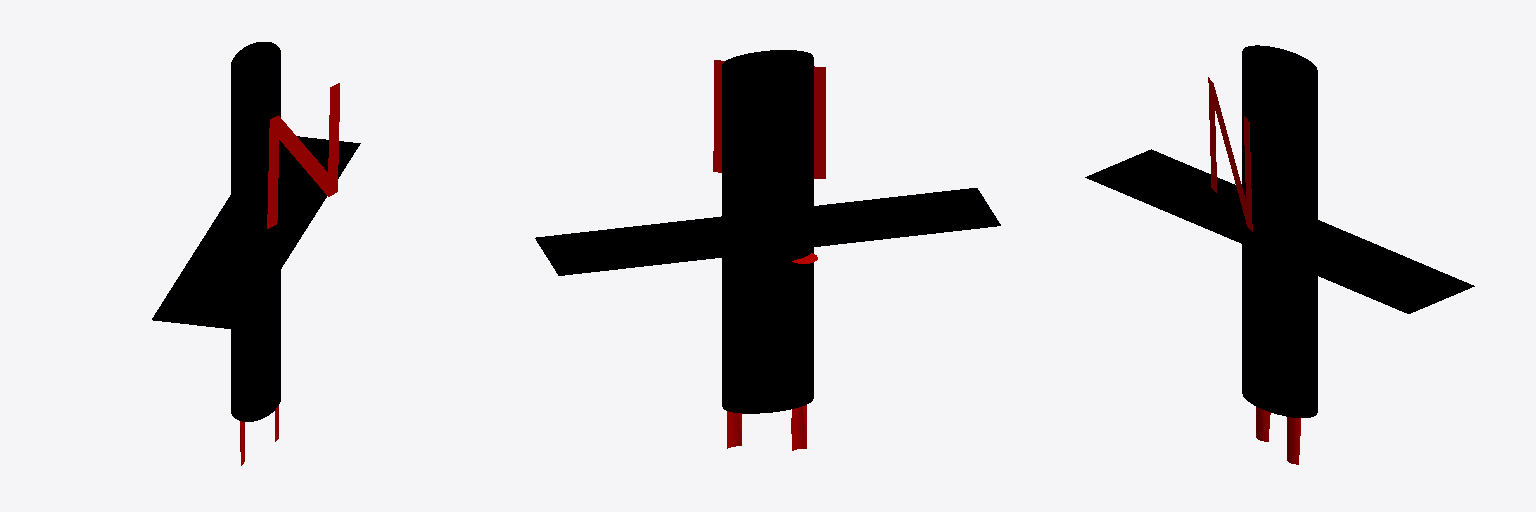
File: craft.obj
3 views of the same model, side by side, from view 1: azimuth 30°, elevation 25°; view 2: azimuth 150°, elevation 25°; view 3: azimuth 270°, elevation 25° (orthographic).
Parts seen in each view (by area): view 1: Cylinder, Plane, N; view 2: Cylinder, Plane, N, Cylinder.001; view 3: Cylinder, Plane, N, Cylinder.001.
Boxes of the visible parts, x1=… form: Cylinder: x1=231, y1=42, x2=280, y2=421; Plane: x1=152, y1=136, x2=360, y2=329; N: x1=267, y1=83, x2=339, y2=228; Cylinder: x1=722, y1=50, x2=813, y2=413; Plane: x1=535, y1=188, x2=1000, y2=275; N: x1=713, y1=60, x2=825, y2=178; Cylinder.001: x1=727, y1=253, x2=817, y2=450; Cylinder: x1=1242, y1=45, x2=1317, y2=417; Plane: x1=1085, y1=149, x2=1474, y2=313; N: x1=1208, y1=77, x2=1252, y2=231; Cylinder.001: x1=1256, y1=407, x2=1300, y2=464.
Size of the model in its own units: 8.29 by 9.13 by 8.29.